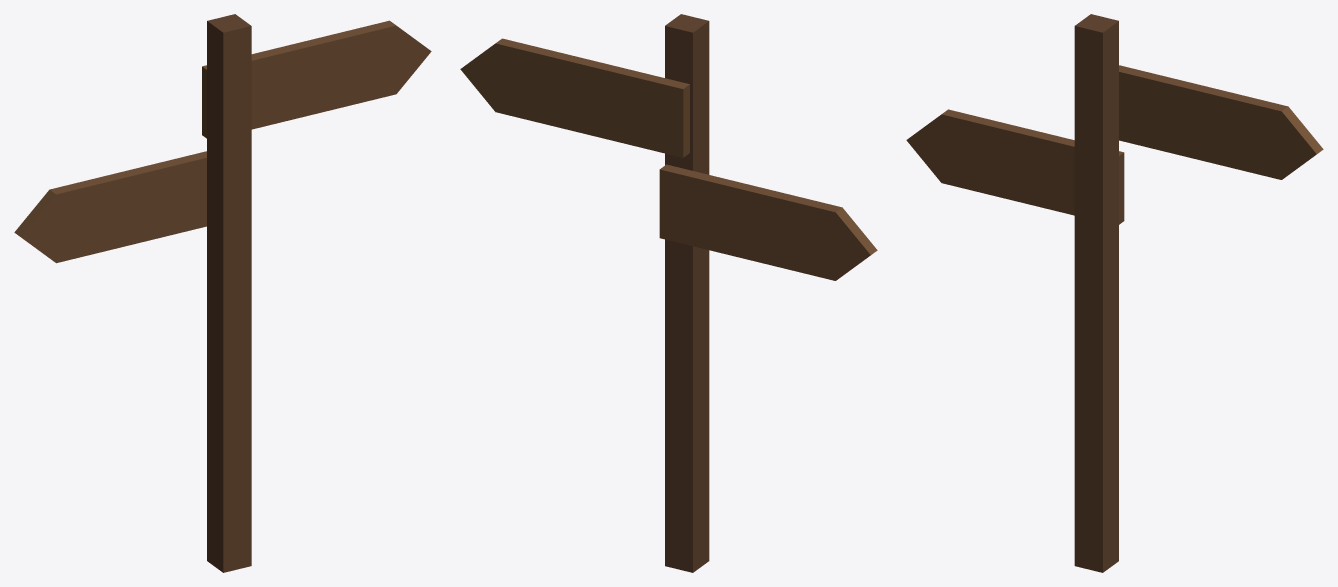
The model's file is sign_board.glb.
The picture shows the model from 3 angles, left to right: view 1: azimuth 30°, elevation 25°; view 2: azimuth 150°, elevation 25°; view 3: azimuth 330°, elevation 25°; orthographic projection.
Parts seen in each view (by area): view 1: sign_board; view 2: sign_board; view 3: sign_board.
Part boxes in pixels (<box>): sign_board: <box>14,14,431,572</box>; sign_board: <box>460,14,877,572</box>; sign_board: <box>906,14,1323,572</box>.
Bounding box in the file's own units: 1.75 × 2.2 × 0.175.
